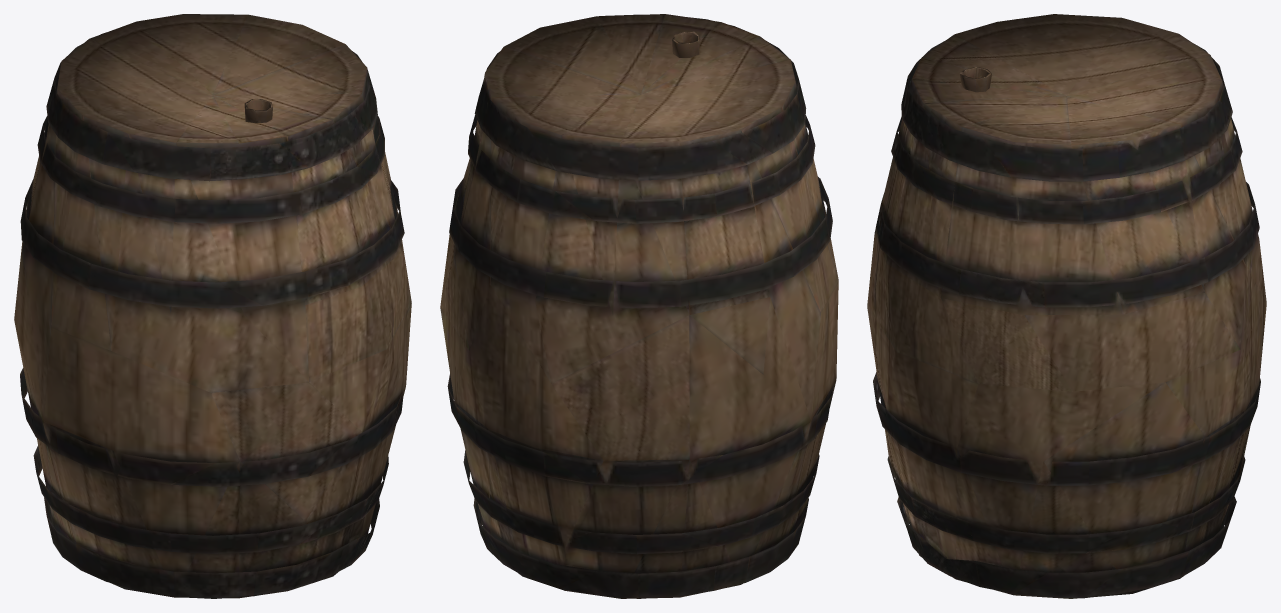
File: barrel.glb
3 views of the same model, side by side, from view 1: azimuth 30°, elevation 25°; view 2: azimuth 150°, elevation 25°; view 3: azimuth 270°, elevation 25° (orthographic).
Bounding box in the file's own units: 0.7407 × 0.9536 × 0.7495.
1 material, 1 textured.
